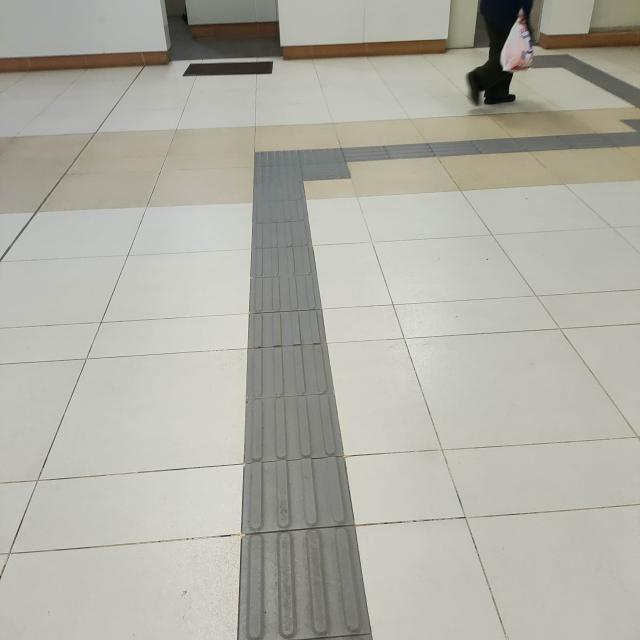kanan: (208, 116, 412, 212)
